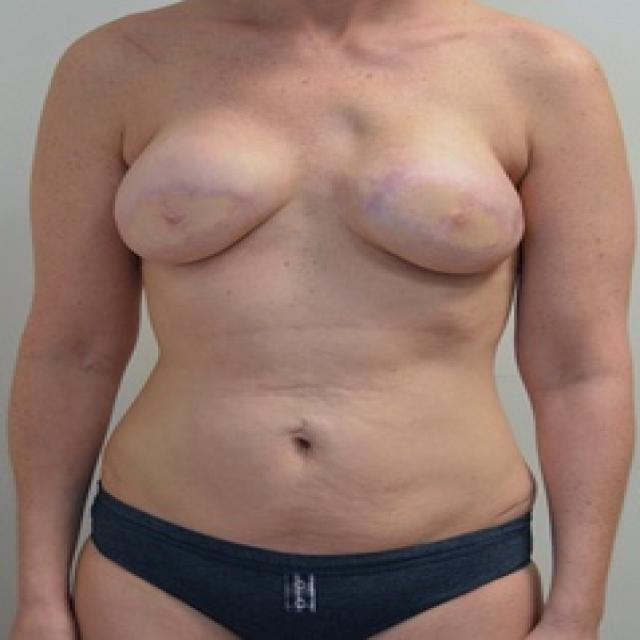Seno herido: (319, 94, 538, 294), (103, 94, 312, 282)
